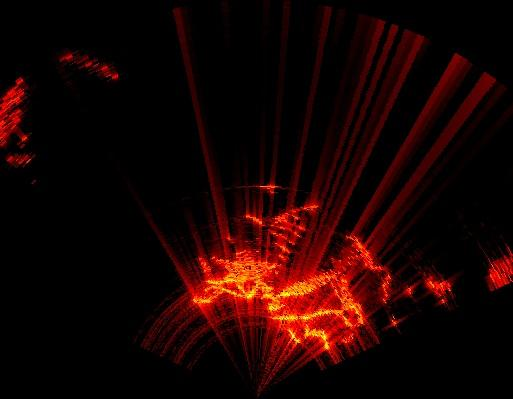shipwreck: (193, 237, 389, 349), (250, 205, 317, 267)
